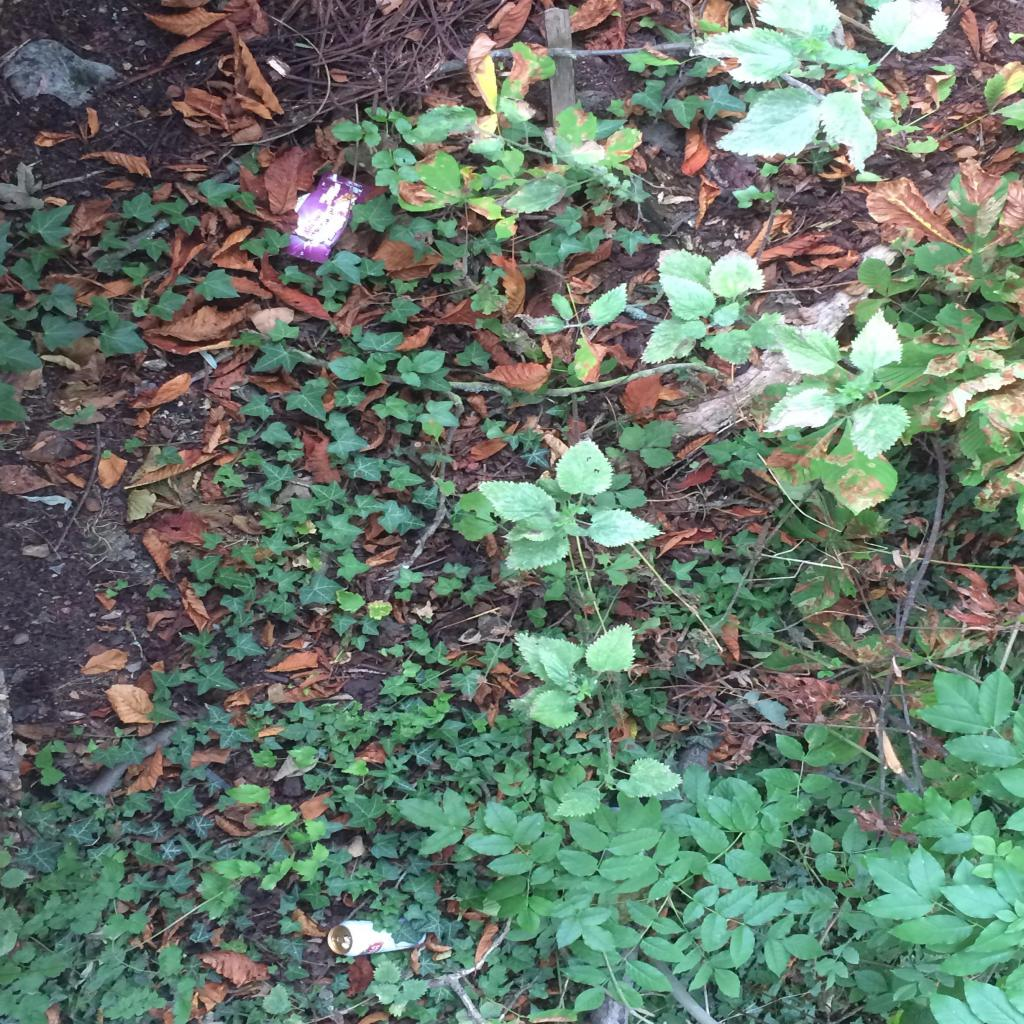Drink can: (326, 920, 426, 956)
Other plastic: (283, 171, 371, 263)
